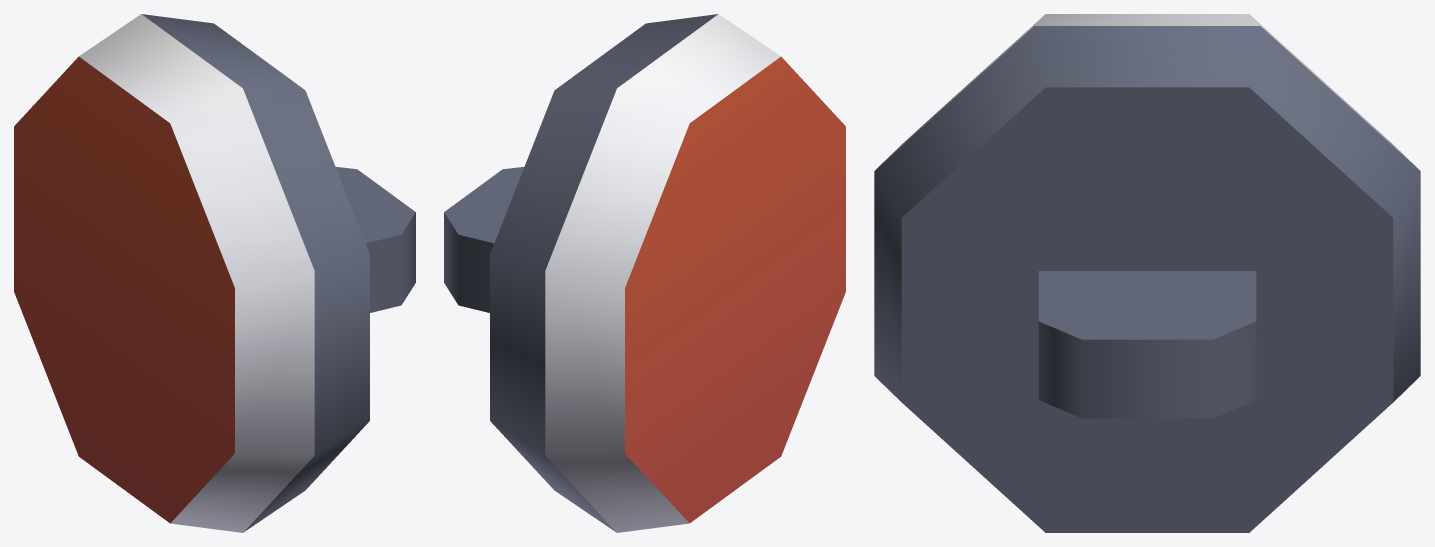
File: road-sign-object-stop.glb
The picture shows the model from 3 angles, left to right: view 1: azimuth 30°, elevation 25°; view 2: azimuth 150°, elevation 25°; view 3: azimuth 270°, elevation 25°; orthographic projection. The views are drawn at different scales.
Parts seen in each view (by area): view 1: road-sign-object-stop; view 2: road-sign-object-stop; view 3: road-sign-object-stop.
Boxes of the visible parts, x1,y1,x2,y2 form: road-sign-object-stop: [14, 14, 415, 532]; road-sign-object-stop: [444, 14, 845, 532]; road-sign-object-stop: [874, 14, 1420, 532].
Bounding box in the file's own units: 0.0775 × 0.1256 × 0.1256.
Materials: 1 (1 with a texture image).
